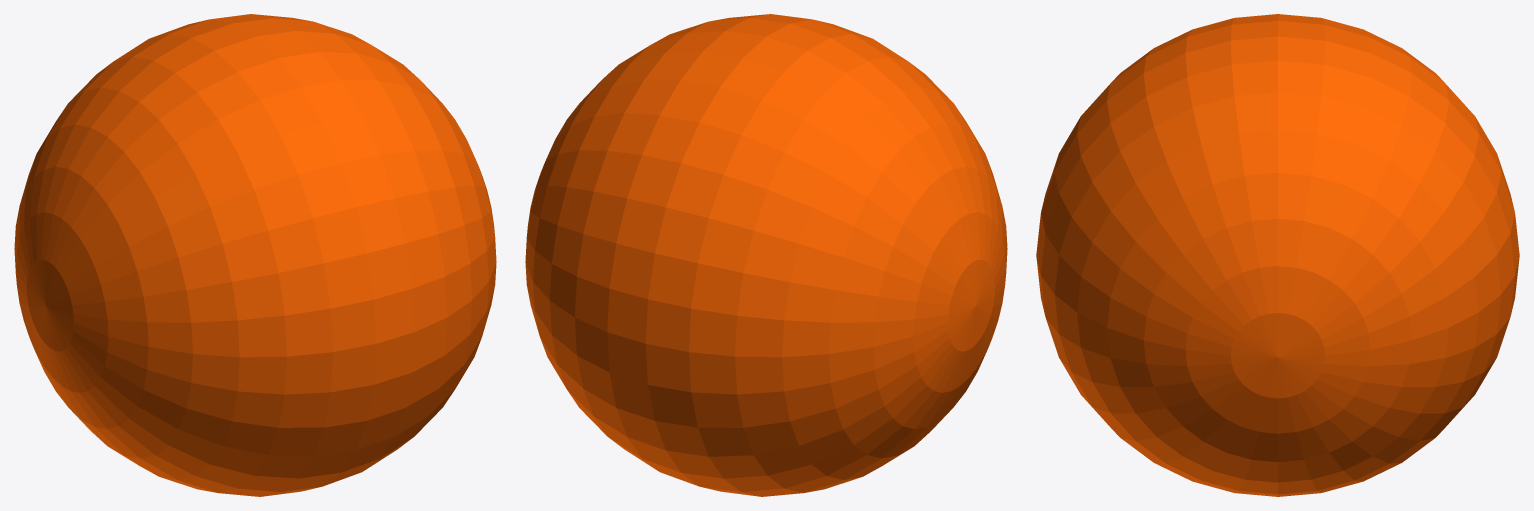
The model's file is whole_orange_3D.gltf.
The picture shows the model from 3 angles, left to right: view 1: azimuth 30°, elevation 25°; view 2: azimuth 150°, elevation 25°; view 3: azimuth 270°, elevation 25°; orthographic projection.
Visible parts, largest first — view 1: Sphere_left, Sphere_right; view 2: Sphere_left, Sphere_right; view 3: Sphere_right, Sphere_left.
Part boxes in pixels (box(x1,y1,x2,y2)): Sphere_left: box(14, 19, 376, 496); Sphere_right: box(210, 14, 496, 486); Sphere_left: box(645, 19, 1007, 496); Sphere_right: box(525, 14, 811, 486); Sphere_right: box(1036, 36, 1519, 496); Sphere_left: box(1041, 14, 1514, 210).
Bounding box in the file's own units: 2 × 2 × 2.
